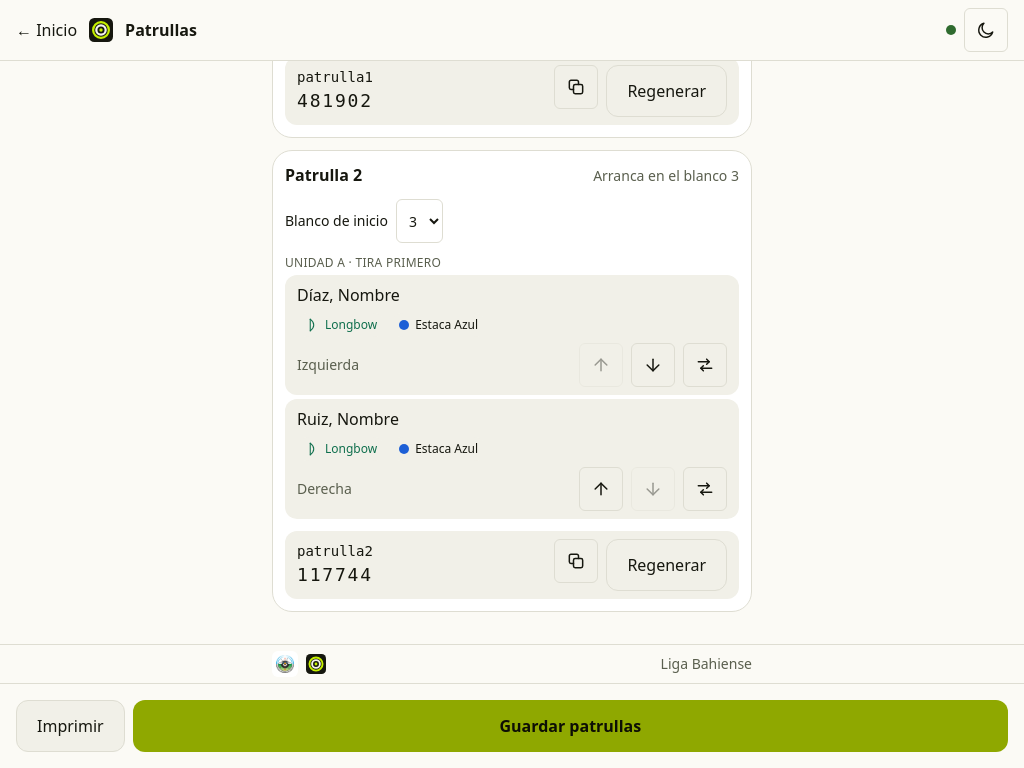
Test: edición manual › AVISA en vivo sin bloquear el guardado
This screenshot has width=1024, height=768.
(page scrolled)
Click the button named "Mover a Ruiz a otra patrulla": (705, 489) [683,467,727,511]
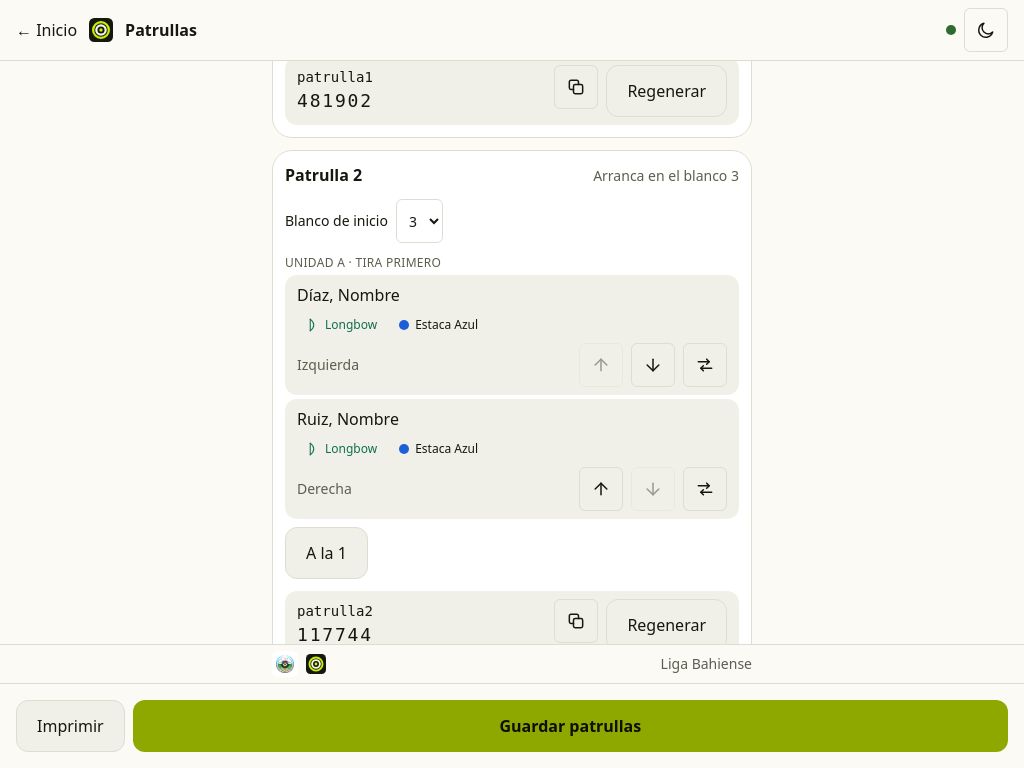
Click the button "A la 1": (326, 553) [285,527,368,579]
(page scrolled)
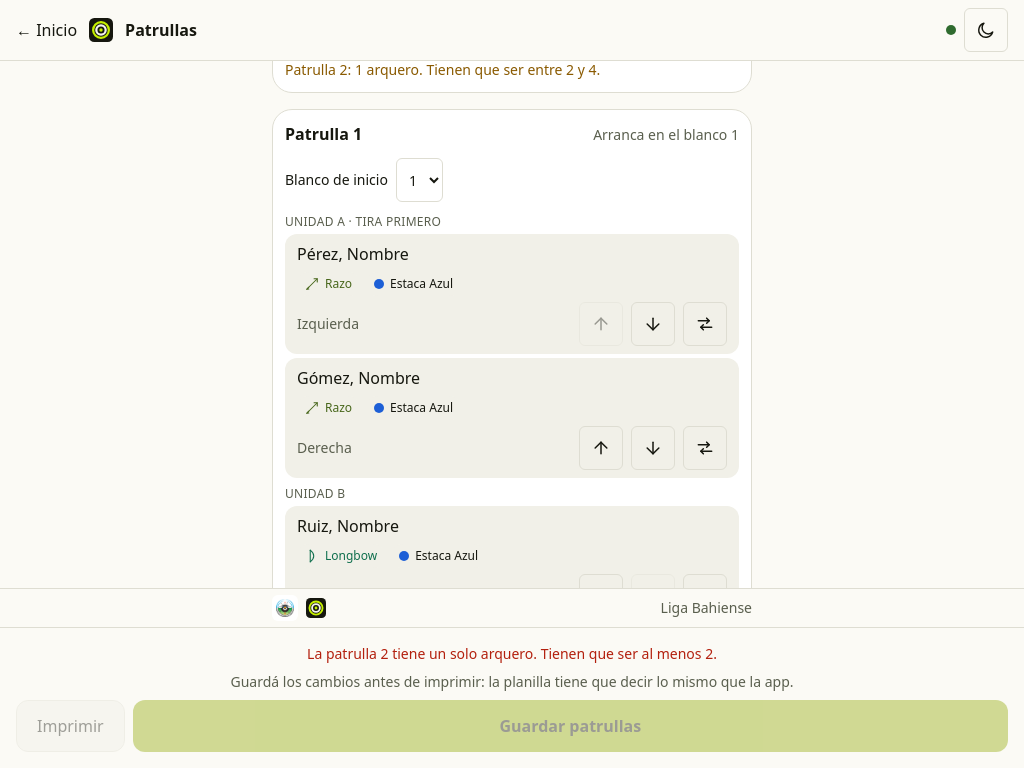
Click the button named "Mover a Pérez a otra patrulla": (705, 324) [683,302,727,346]
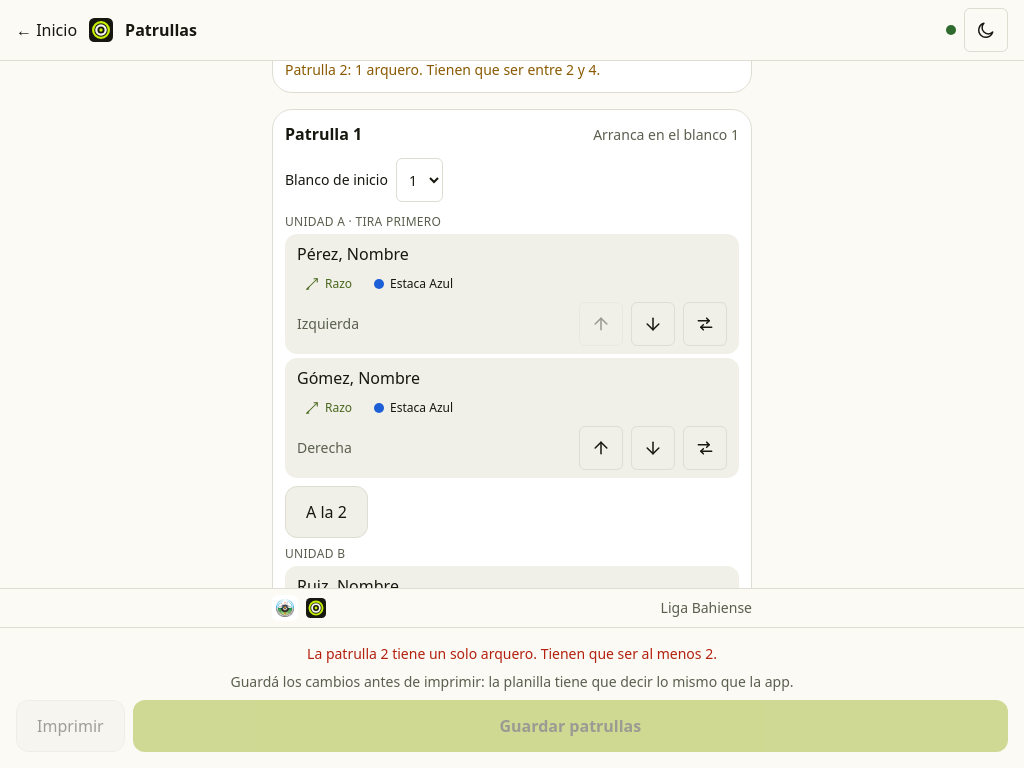
Click the button "A la 2": (326, 512) [285,486,368,538]
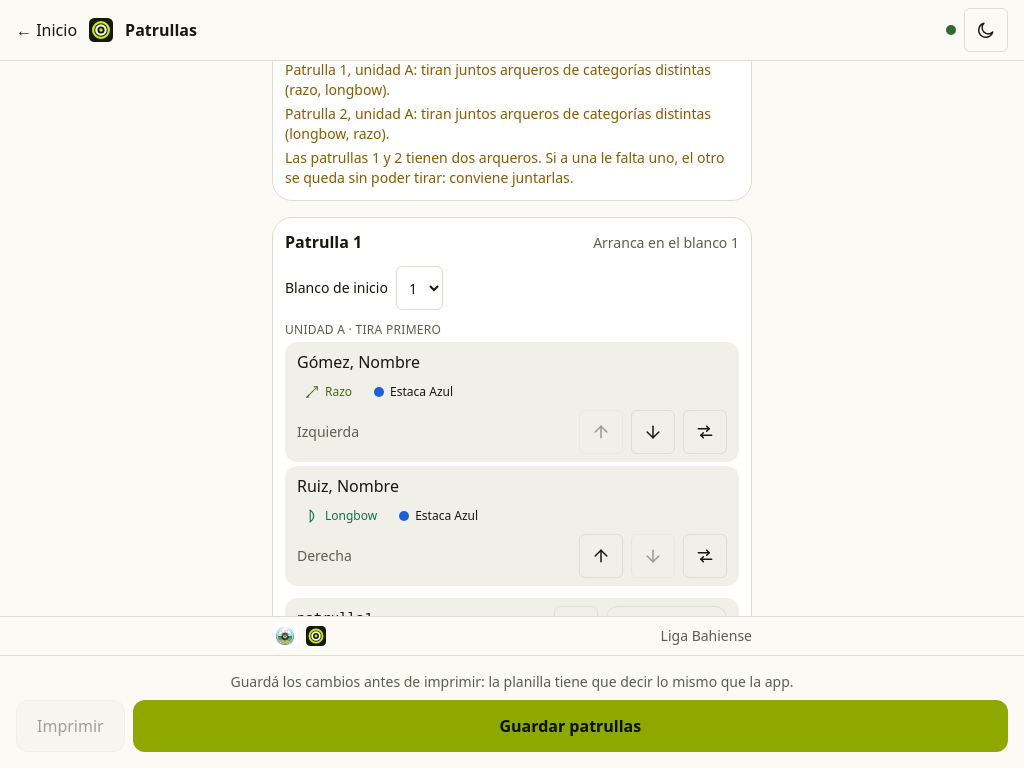
Check: the element with test id "violaciones" shows "categorías distintas", box [285,61,711,99]
Check: the button "Guardar patrullas" is enabled, box [133,700,1008,752]
